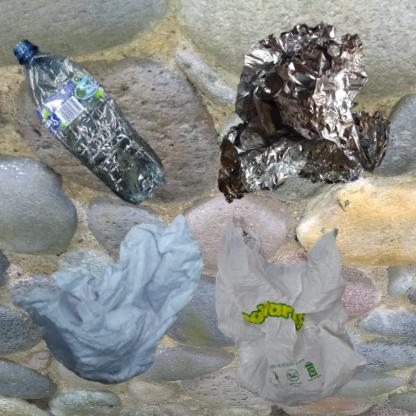aluminio: (213, 10, 407, 226)
bolsa: (213, 213, 369, 409)
botella: (10, 10, 197, 262)
papel: (10, 213, 206, 387)
